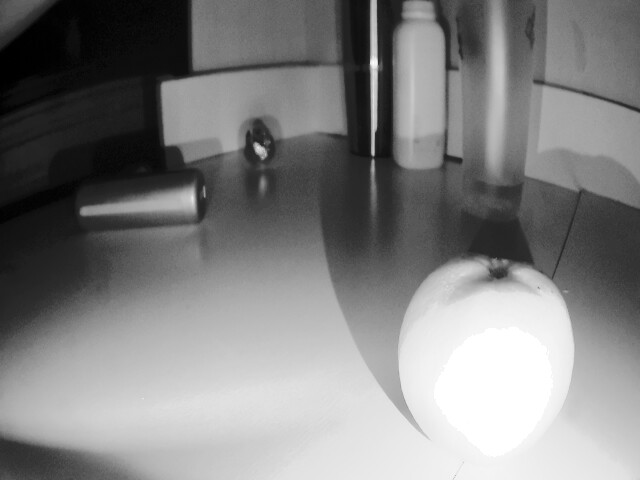silver: (238, 122, 276, 171)
